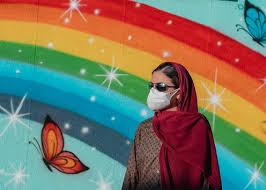Wearing Mask: (144, 60, 193, 113)
